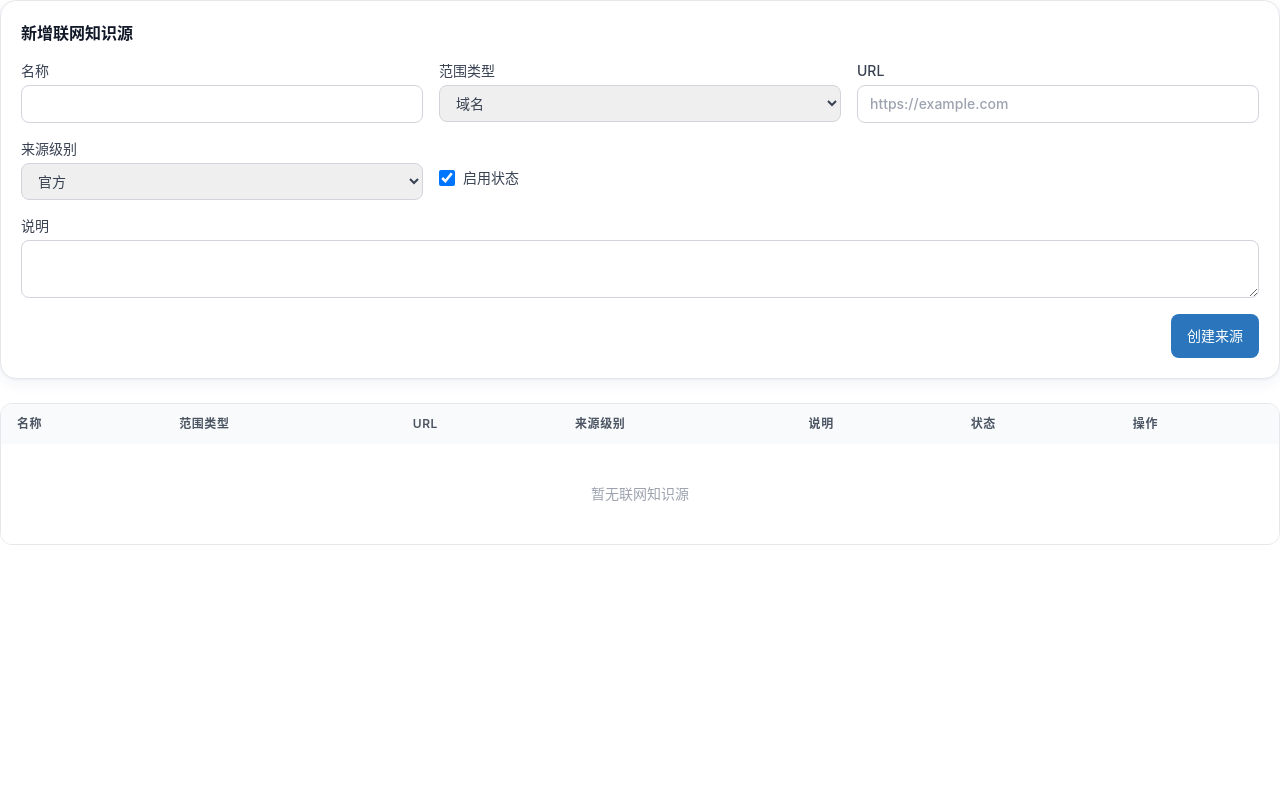
WebSourceManager › creates a source with every configurable field
expect the text "暂无联网知识源" is shown: met, box top-left (1, 444), bottom-right (1279, 544)
Type "Race Control" into the field labelled "名称" at (222,104), box top-left (21, 85), bottom-right (423, 123)
Select "路径" in the dropdown labelled "范围类型" at (640,104), box top-left (439, 85), bottom-right (841, 122)
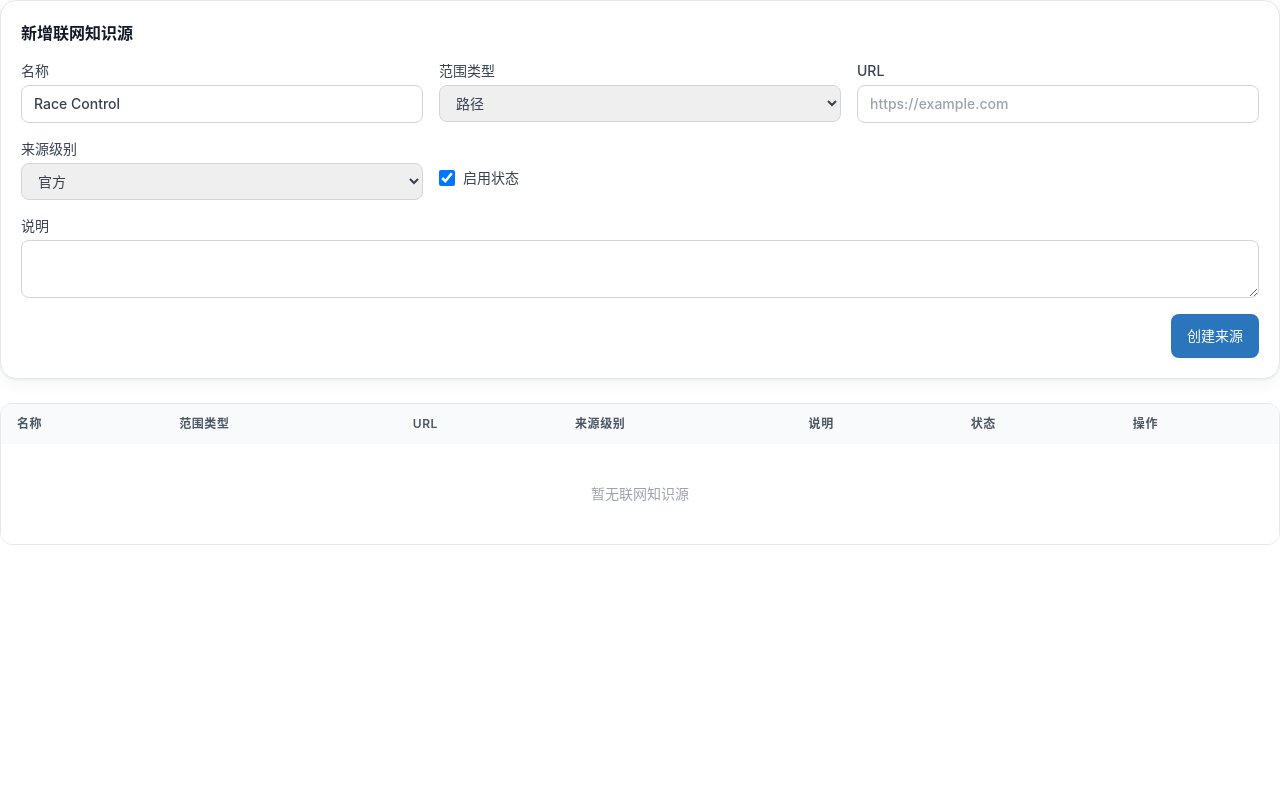
Type "https://support.iracing.com/race-control" into the field labelled "URL" at (1058,104), box top-left (857, 85), bottom-right (1259, 123)
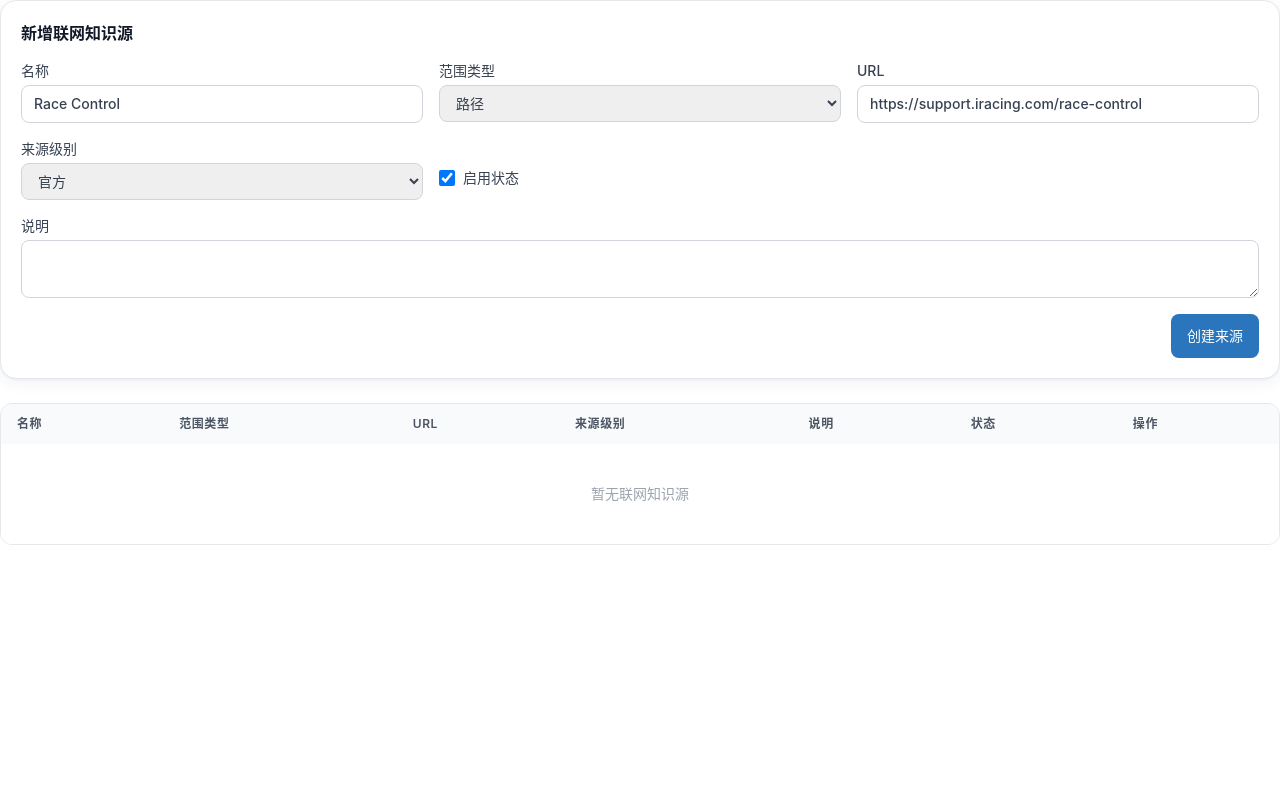
Select "社区" in the dropdown labelled "来源级别" at (222,182), box top-left (21, 163), bottom-right (423, 200)
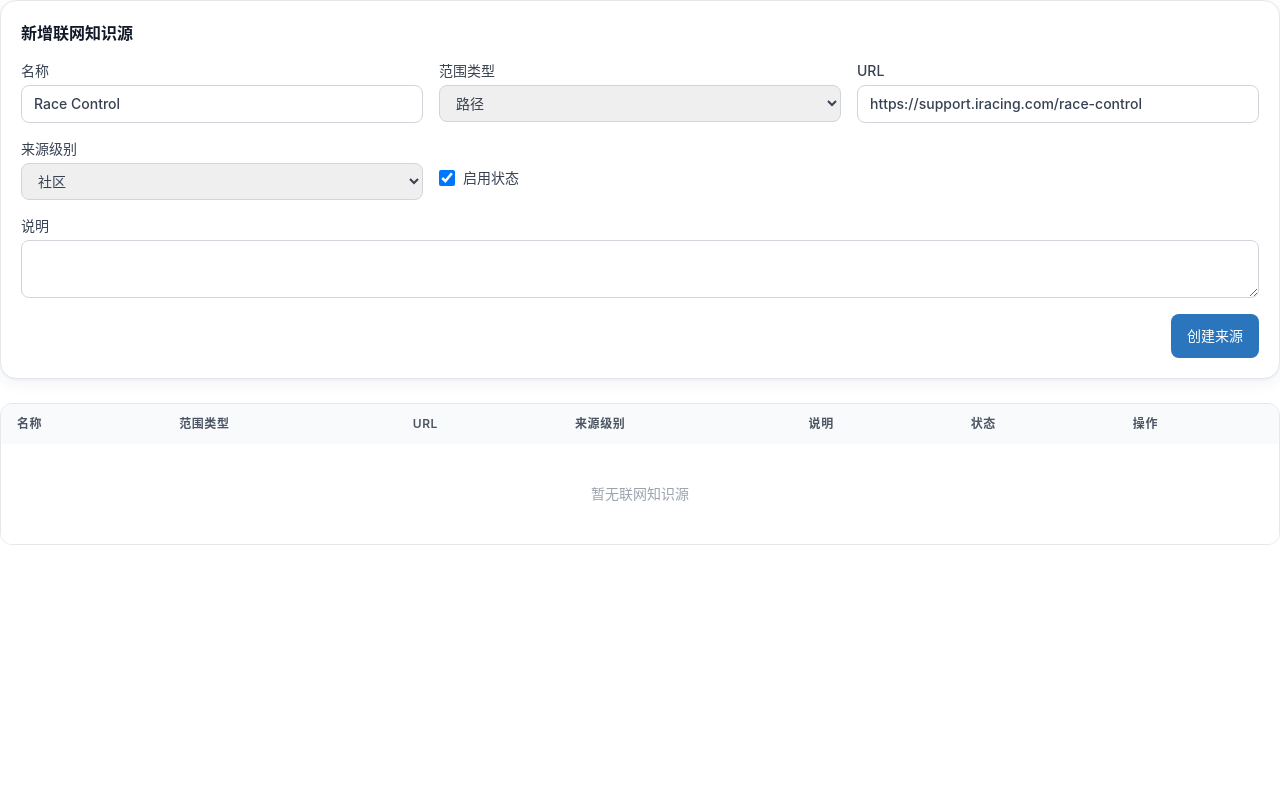
Click the checkbox labelled "启用状态" at (447,178), box top-left (439, 170), bottom-right (455, 186)
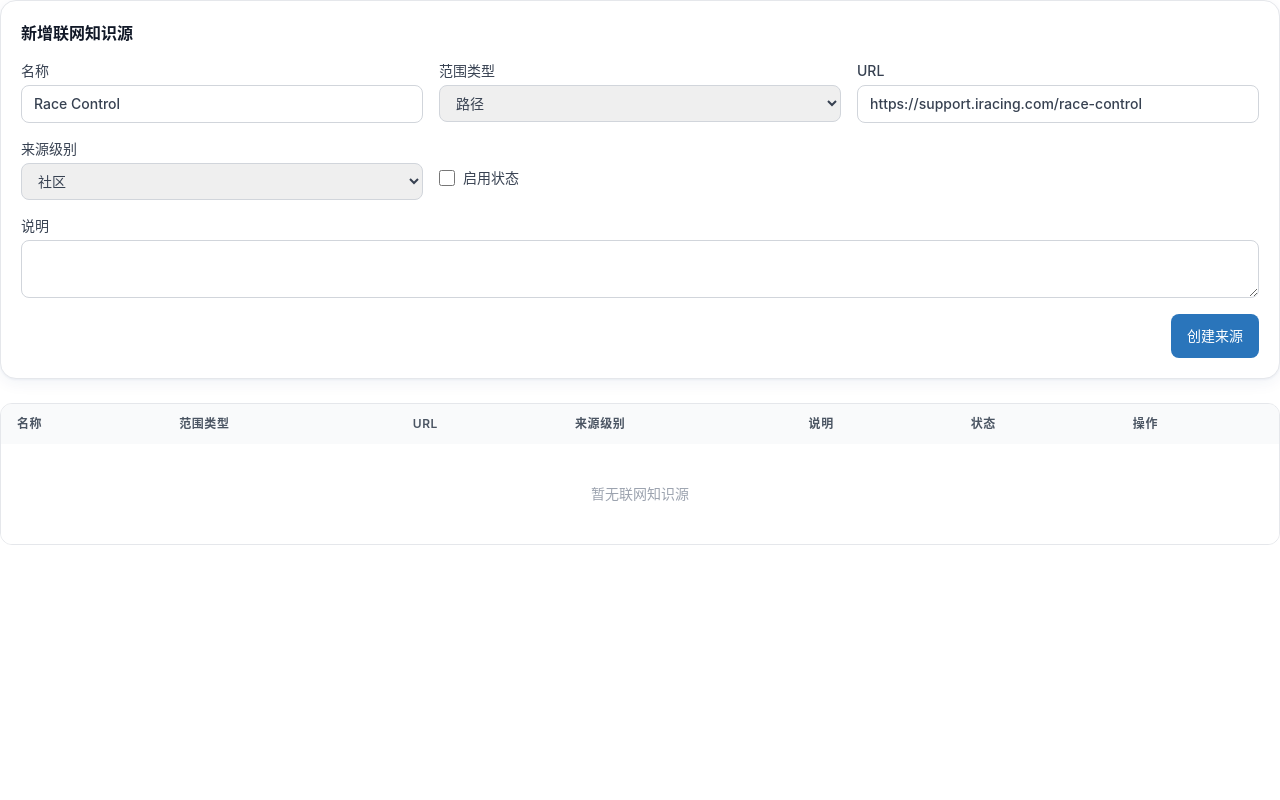
Type "Stewarding notes" into the text box labelled "说明" at (640,269), box top-left (21, 240), bottom-right (1259, 298)
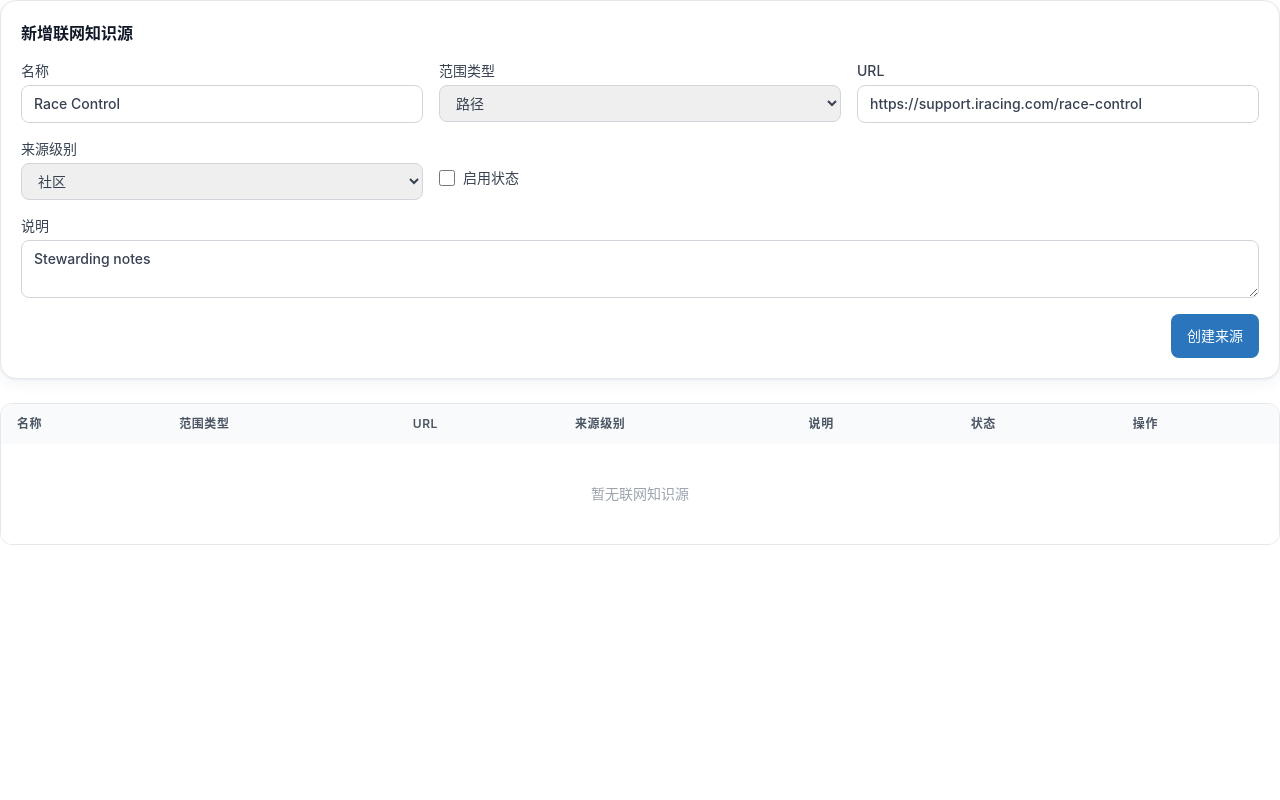
Click the button named "创建 Race Control" at (1215,336), box top-left (1171, 314), bottom-right (1259, 358)
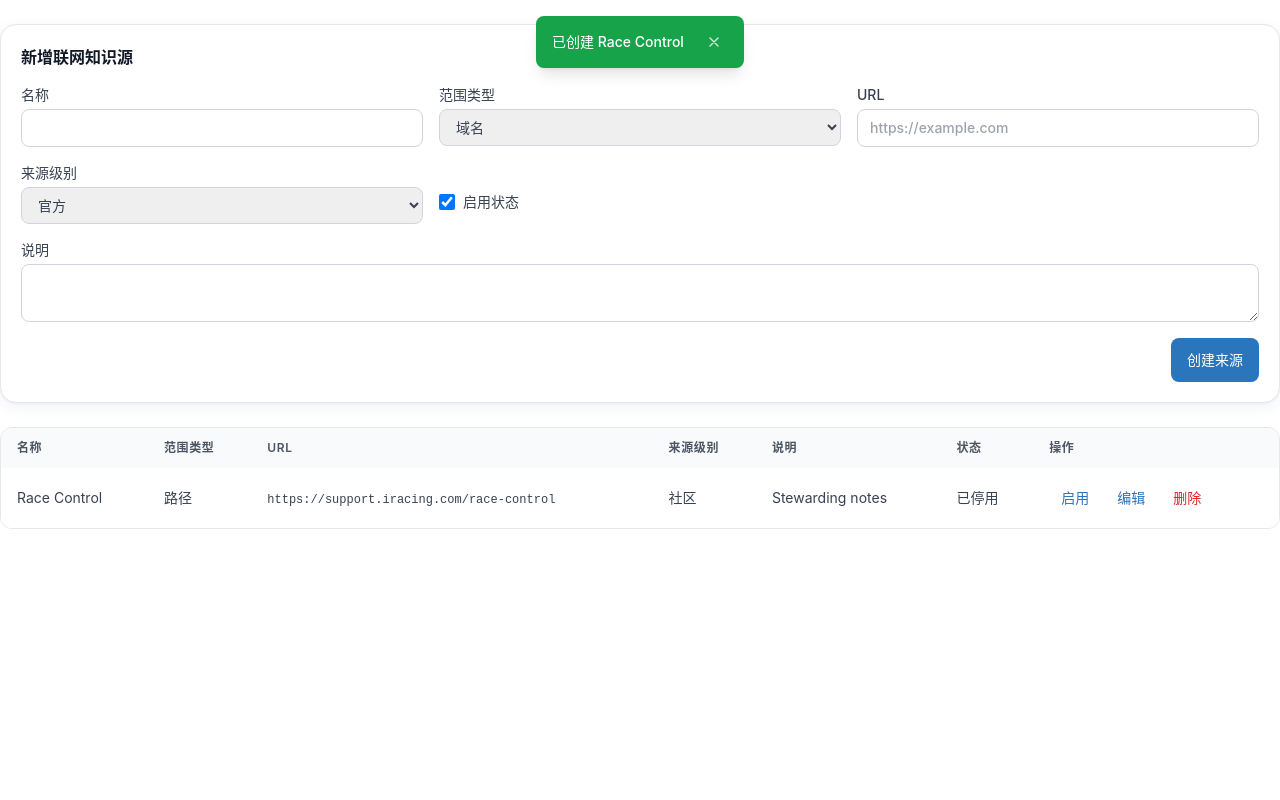
expect the text "Race Control" is shown: met, box top-left (1, 468), bottom-right (148, 528)
